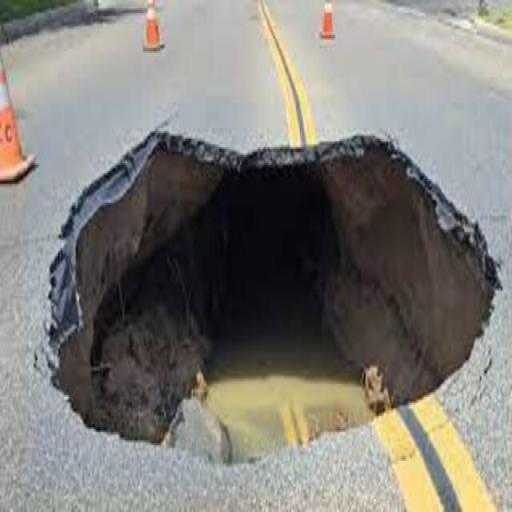Concentric_Crack: (48, 132, 499, 461)
